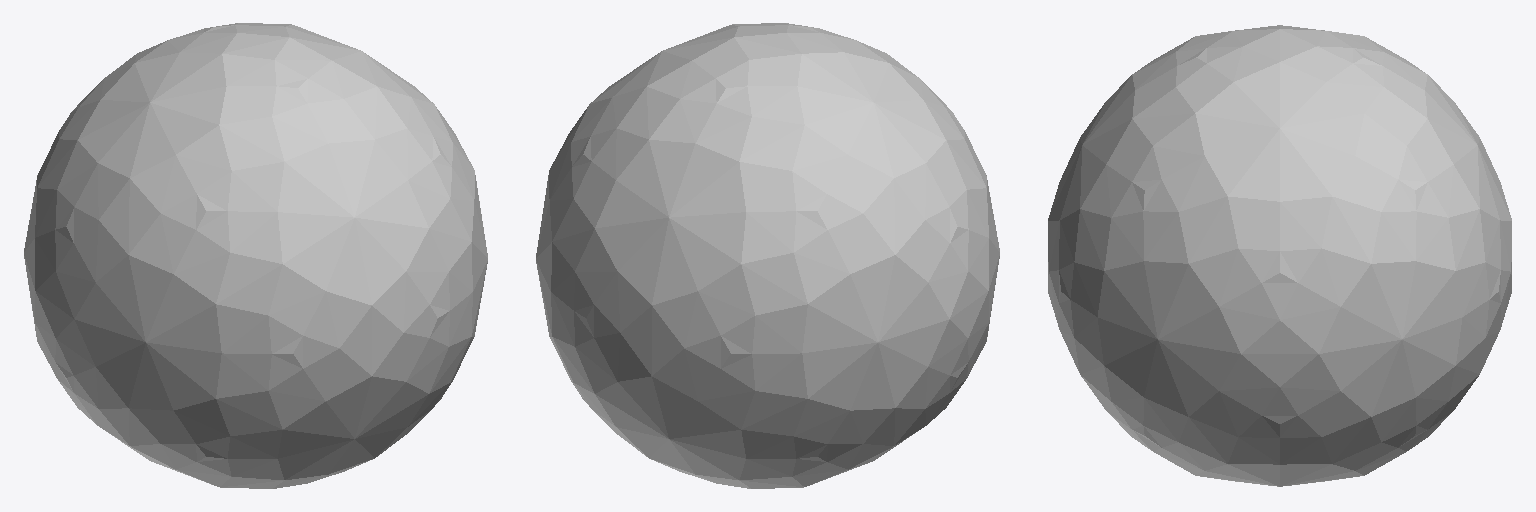
Rendered from internal2.obj.
3 views of the same model, side by side, from view 1: azimuth 30°, elevation 25°; view 2: azimuth 150°, elevation 25°; view 3: azimuth 270°, elevation 25° (orthographic).
Visible parts, largest first — view 1: pSolid1; view 2: pSolid1; view 3: pSolid1.
Part boxes in pixels (bbox=[...]): pSolid1: bbox=[24, 23, 487, 488]; pSolid1: bbox=[536, 23, 999, 488]; pSolid1: bbox=[1048, 25, 1511, 486].
Size of the model in its own units: 1.74 by 1.74 by 1.74.